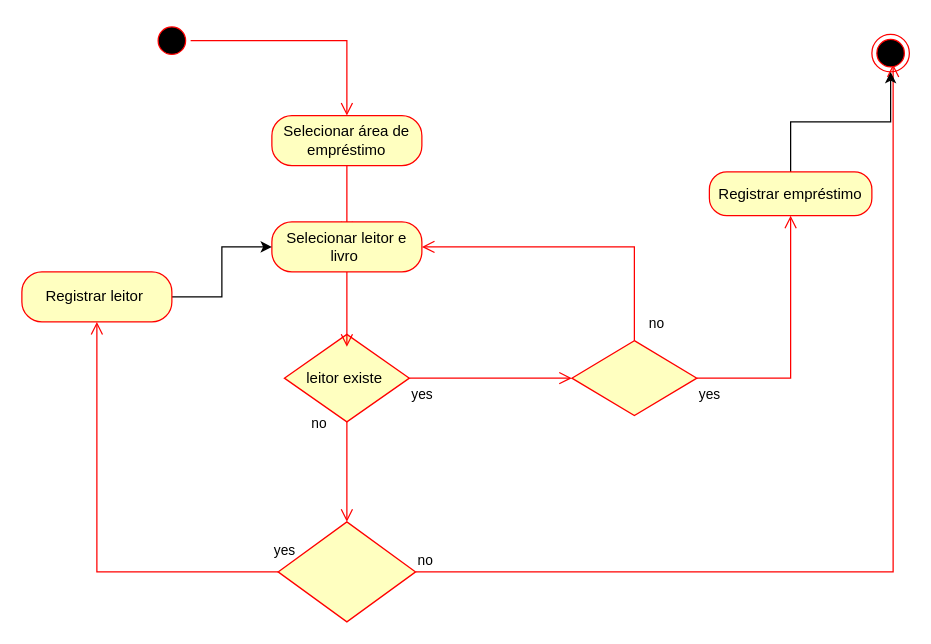
This 931x644 diagram has some shape labels left out. The centre of each missing label's shape, as x and y in pixels:
Livro existe ?: the point at 634,377
Registrar leitor?: the point at 346,571
